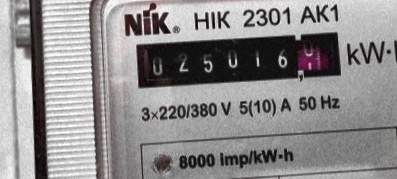0: (224, 45, 239, 68), (148, 53, 162, 75), (299, 36, 312, 56)
1: (249, 42, 261, 68), (303, 59, 311, 70)
2: (174, 48, 188, 72)
5: (199, 50, 211, 72)
6: (273, 44, 287, 70)
screen: (124, 21, 349, 94)
